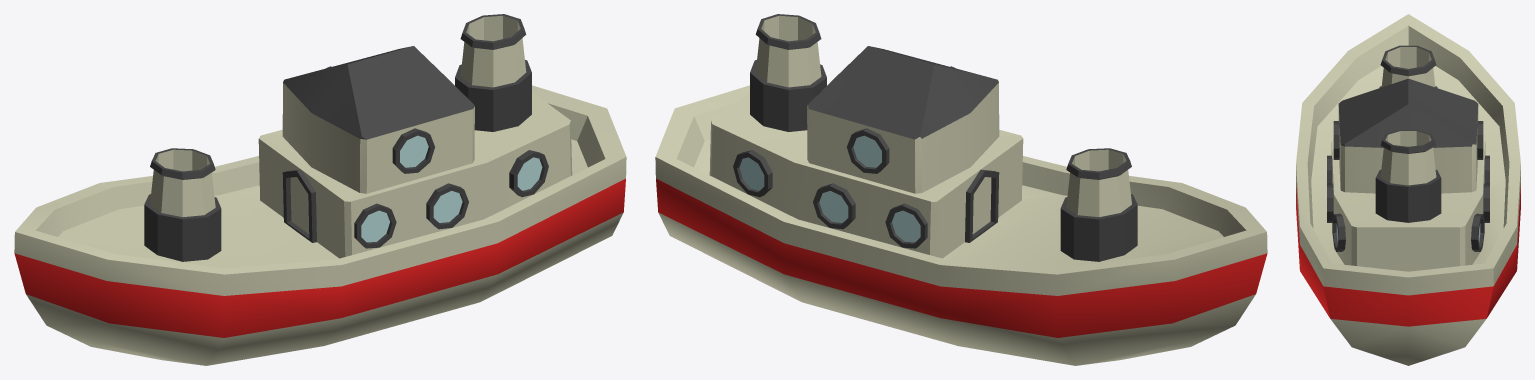
File: Tentacle_Paquebot.FBX
The picture shows the model from 3 angles, left to right: view 1: azimuth 30°, elevation 25°; view 2: azimuth 150°, elevation 25°; view 3: azimuth 270°, elevation 25°; orthographic projection. The views are drawn at different scales.
Parts seen in each view (by area): view 1: Tentacle_Bateau_004; view 2: Tentacle_Bateau_004; view 3: Tentacle_Bateau_004.
Part boxes in pixels (box(x1,y1,x2,y2)): Tentacle_Bateau_004: box(14, 14, 626, 365); Tentacle_Bateau_004: box(655, 14, 1267, 365); Tentacle_Bateau_004: box(1296, 14, 1520, 365).
Size of the model in its own units: 350 by 151 by 135.
